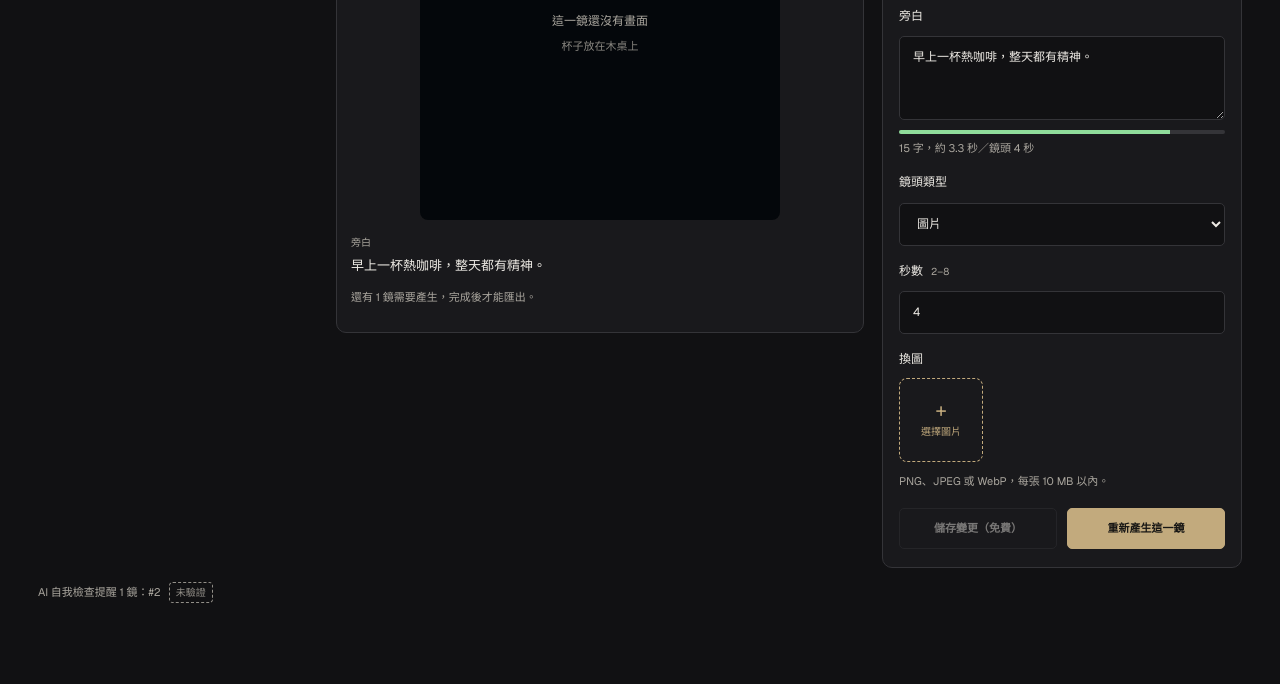
Test: editor actions › shows 402 inside the dialog with a credits link, and refreshes credits and the project
(page scrolled)
Click the button "重新產生這一鏡" at (1146, 529), box [1067,508,1225,549]
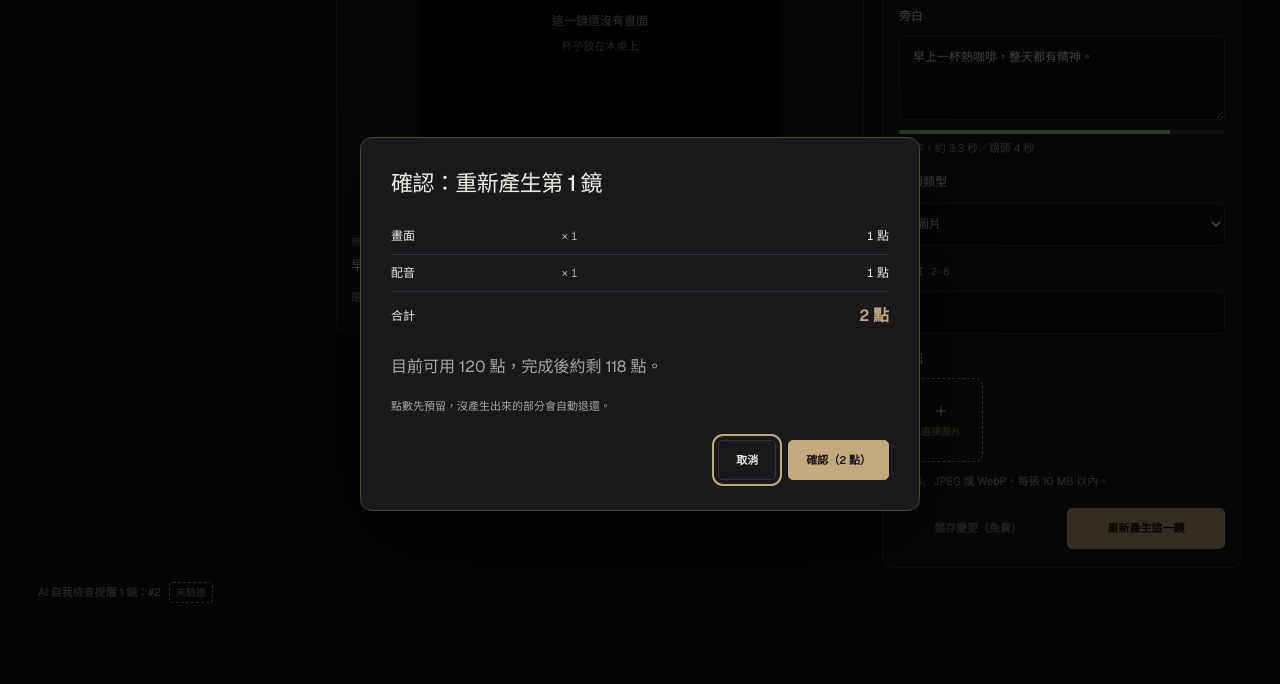
Click the button "確認（2 點）" at (839, 460), box [788,440,889,480]
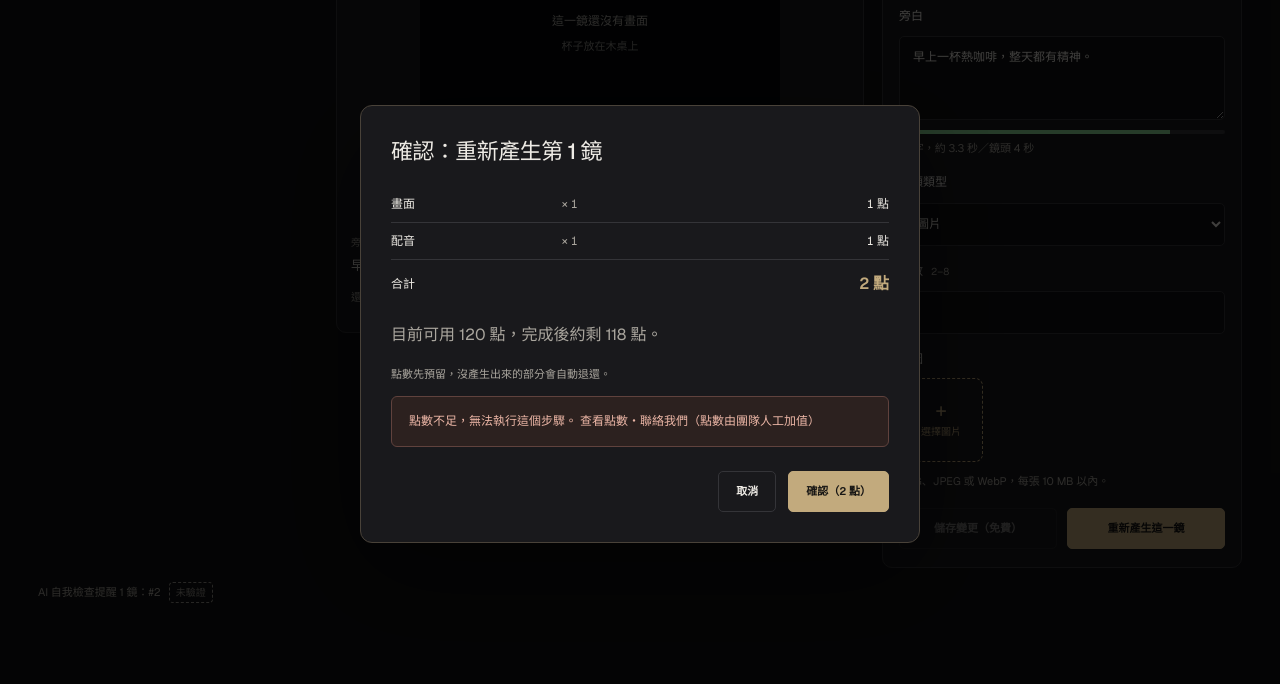
Expected: the message shows "點數不足", [409,413,577,429]
